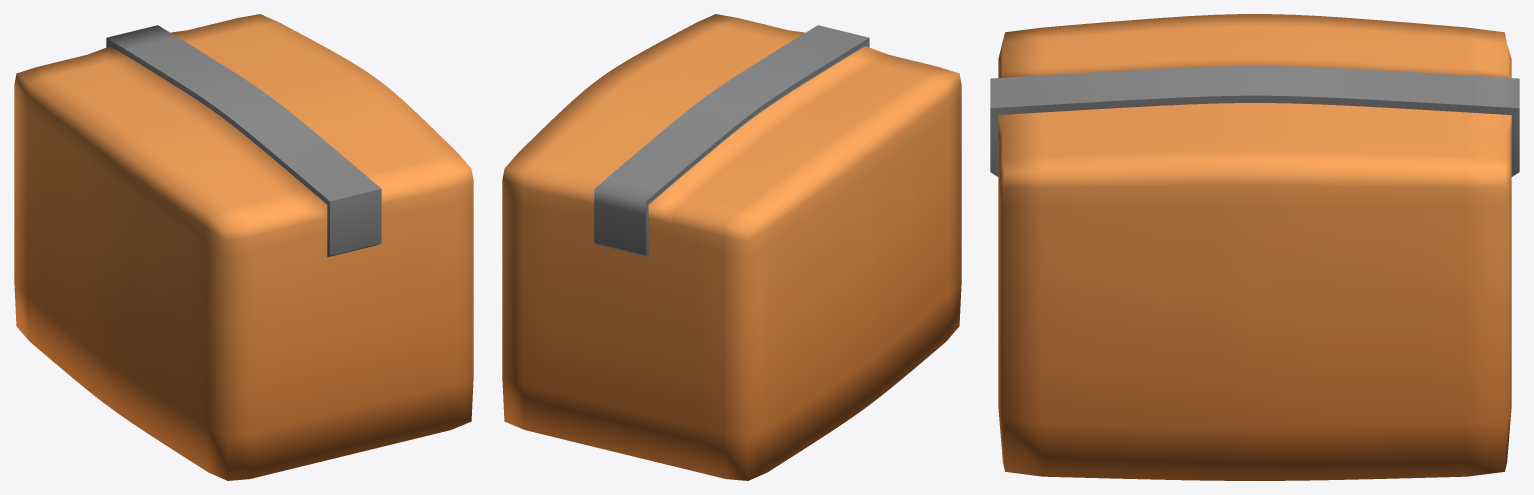
Rendered from coffin.fbx.
The picture shows the model from 3 angles, left to right: view 1: azimuth 30°, elevation 25°; view 2: azimuth 150°, elevation 25°; view 3: azimuth 270°, elevation 25°; orthographic projection. The views are drawn at different scales.
Parts seen in each view (by area): view 1: Cube.019; view 2: Cube.019; view 3: Cube.019.
Boxes of the visible parts, x1,y1,x2,y2 form: Cube.019: [14, 14, 473, 480]; Cube.019: [502, 14, 961, 480]; Cube.019: [990, 14, 1519, 480].
Bounding box in the file's own units: 21.57 × 21.28 × 30.93.
